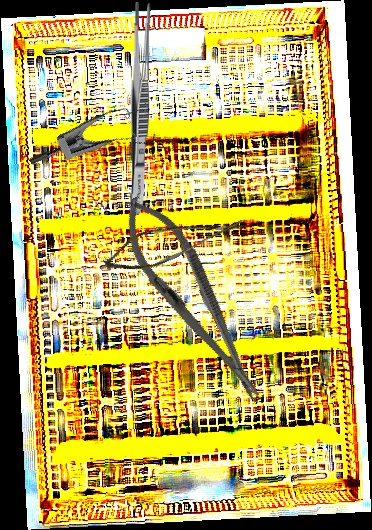Dressing Forceps: (127, 1, 152, 216)
Micro Scissor: (99, 187, 248, 294)
Needle Holder: (106, 184, 279, 414)
Speculum: (27, 81, 169, 210)
